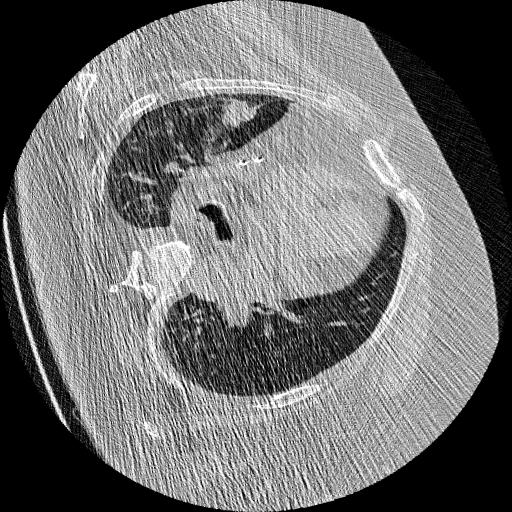nodule: (220, 91, 260, 131)
